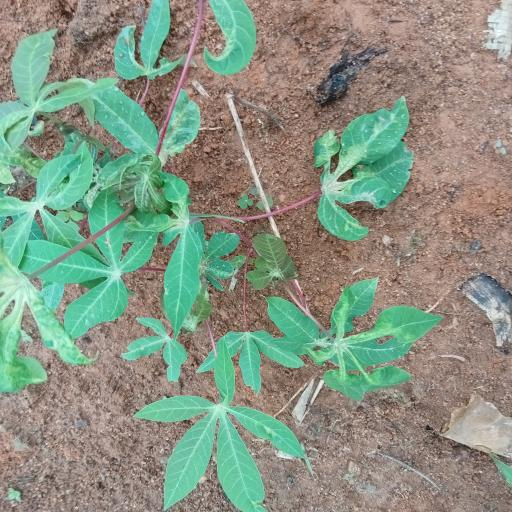Cassava_Mosaic: (148, 351, 299, 509), (260, 288, 422, 398), (314, 101, 414, 239), (0, 266, 85, 392), (0, 153, 95, 261)
